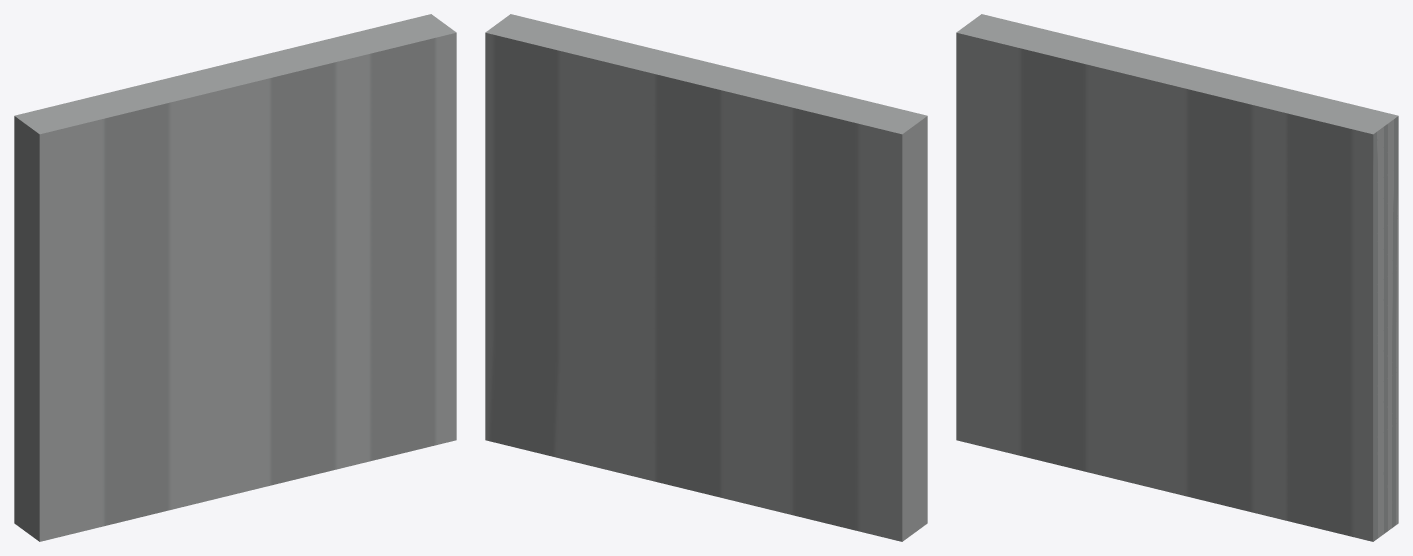
The model's file is DryWall.fbx.
3 renders of one model, left to right at view 1: azimuth 30°, elevation 25°; view 2: azimuth 150°, elevation 25°; view 3: azimuth 330°, elevation 25°, orthographic.
Parts seen in each view (by area): view 1: Cube; view 2: Cube; view 3: Cube.
Part boxes in pixels (box(x1,y1,x2,y2)): Cube: box(14, 14, 456, 541); Cube: box(485, 14, 927, 541); Cube: box(956, 14, 1398, 541).
Bounding box in the file's own units: 300 × 280 × 31.76.
Materials: 1 (1 with a texture image).
